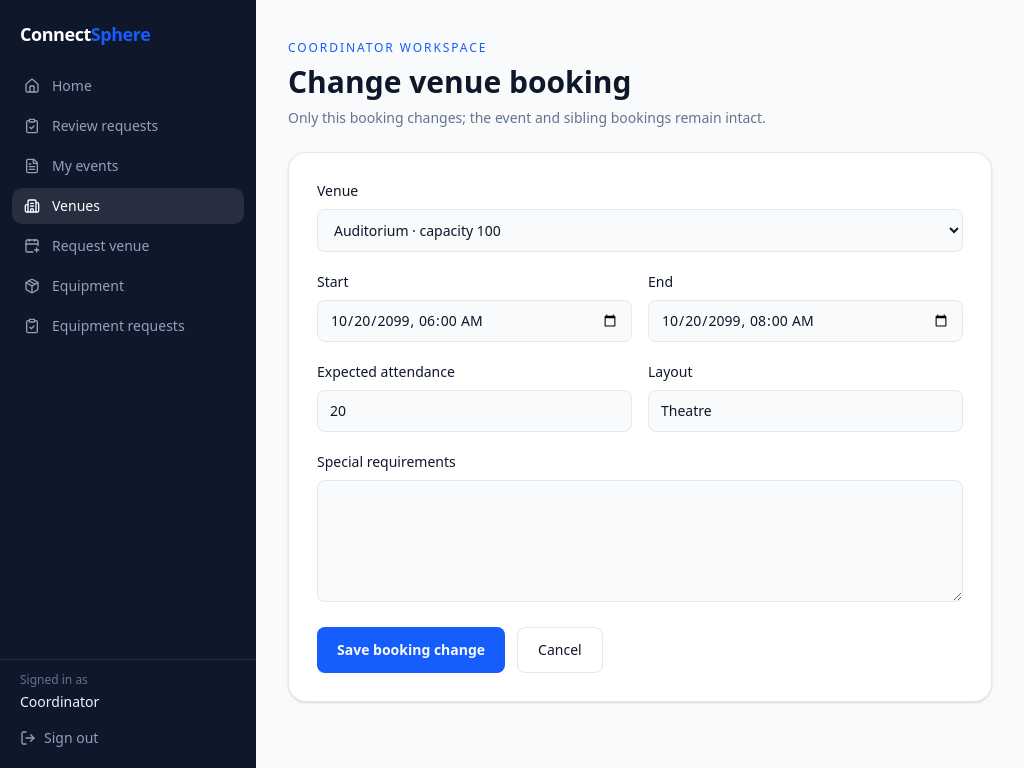
Test: refuses invalid End= before writing
Expected: the dropdown labelled "Venue" is shown, [317,209,963,252]
Clear the field labelled "End". click: (806, 321)
box: [648,300,963,342]
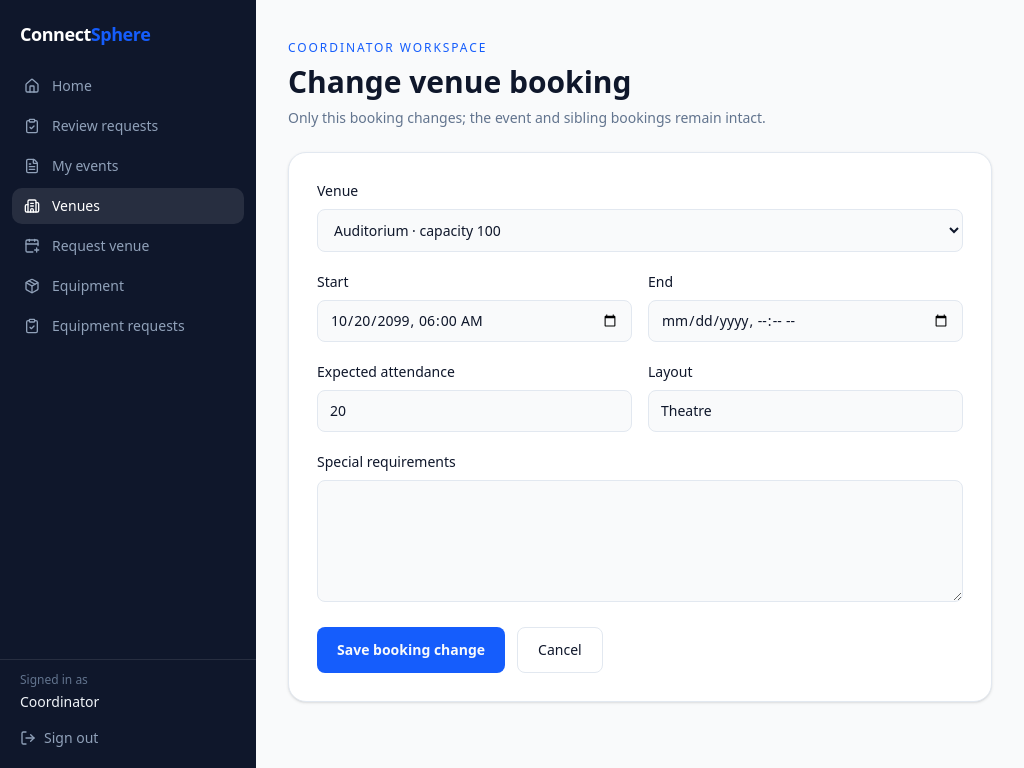
Submit the form, box [288,152,992,702]
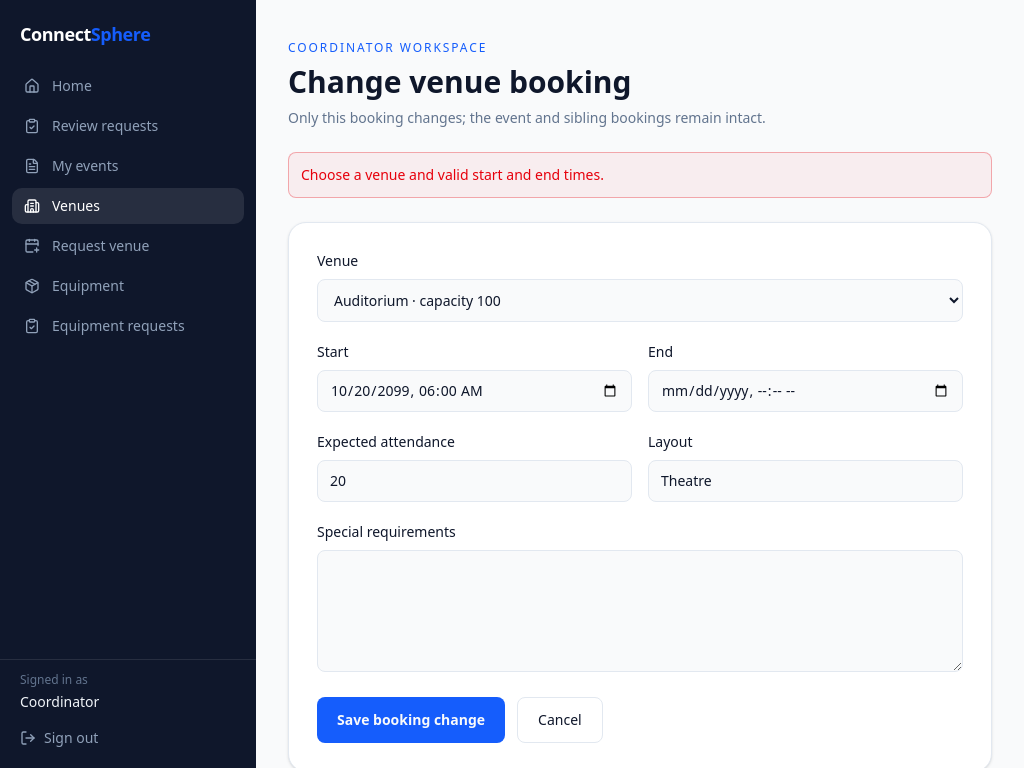
Now the message shows "valid start and end", box [301,165,604,184]
